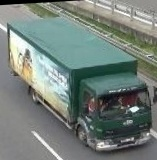truck: (7, 12, 154, 156)
